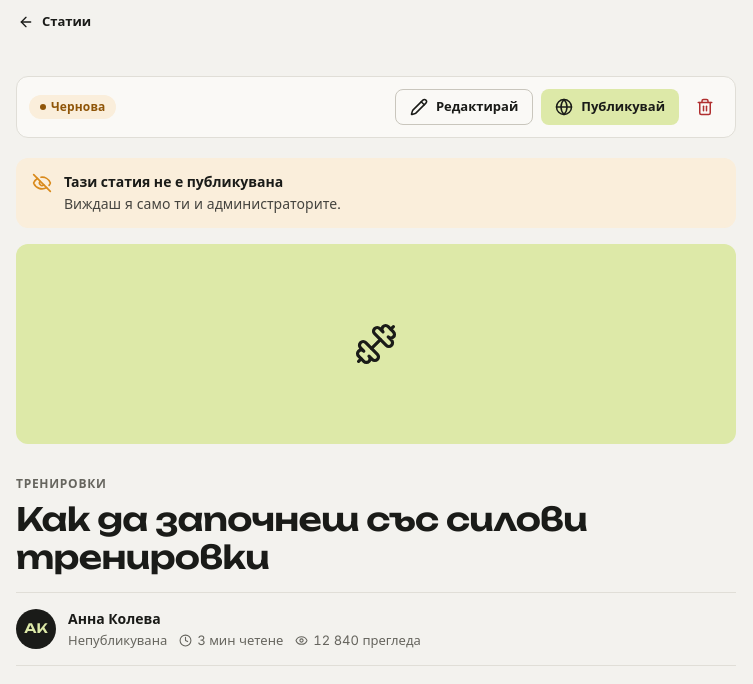
it: ArticlePage › author / admin toolbar › the author with the Trainer role publishes a draft; the article reloads
The image size is (753, 684).
Expected: the text "Чернова" is shown, [29, 95, 116, 119]
Expected: the button "Архивирай" is not shown
Click the button "Публикувай". click: [610, 107]
box: [541, 89, 679, 125]
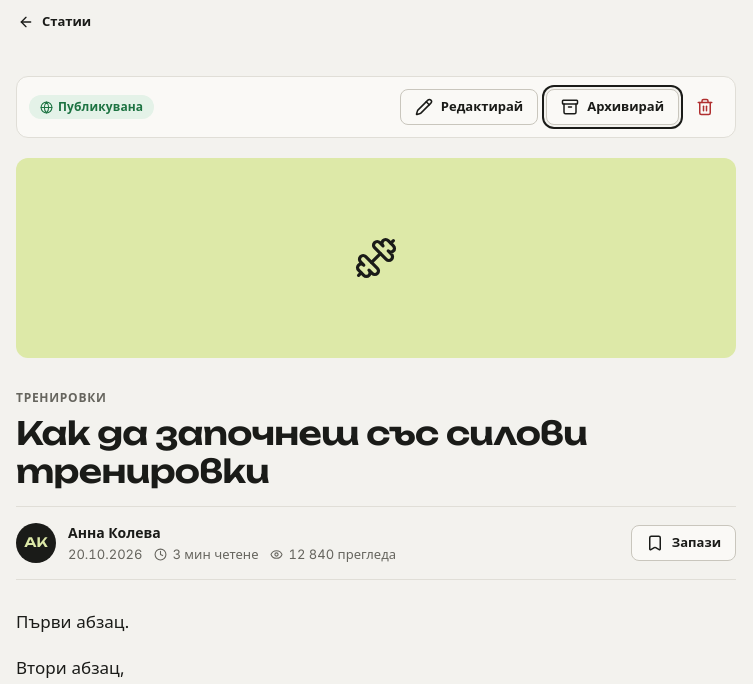
Now the button "Архивирай" is shown, box [546, 89, 679, 125]
Now the text "Тази статия не е публикувана" is gone
